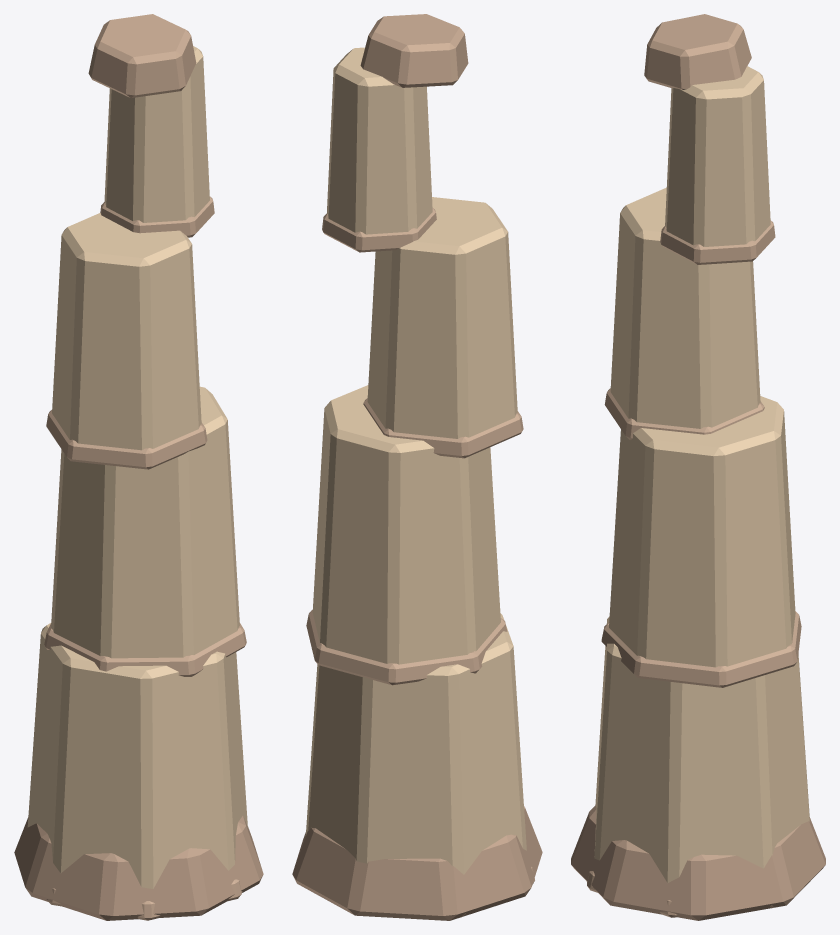
The model's file is mesa_spire_small.glb.
3 views of the same model, side by side, from view 1: azimuth 30°, elevation 25°; view 2: azimuth 150°, elevation 25°; view 3: azimuth 270°, elevation 25° (orthographic).
Parts seen in each view (by area): view 1: Drum1, Drum2, Drum3, Drum4, Talus, Cap, Strata3, Strata2, Strata4, Strata1; view 2: Drum2, Drum1, Drum3, Drum4, Talus, Cap, Strata2, Strata3, Strata4; view 3: Drum2, Drum1, Drum3, Drum4, Talus, Cap, Strata2, Strata4, Strata3.
Part boxes in pixels (<box>): Drum1: <box>27,623,247,888</box>; Drum2: <box>51,386,239,658</box>; Drum3: <box>52,213,201,450</box>; Drum4: <box>104,46,209,222</box>; Talus: <box>14,816,263,920</box>; Cap: <box>88,14,196,97</box>; Strata3: <box>46,410,207,469</box>; Strata2: <box>44,622,246,676</box>; Strata4: <box>100,196,214,237</box>; Strata1: <box>46,840,254,920</box>; Drum2: <box>312,385,500,664</box>; Drum1: <box>305,613,526,874</box>; Drum3: <box>367,197,517,438</box>; Drum4: <box>326,47,432,234</box>; Talus: <box>292,806,542,920</box>; Cap: <box>360,14,468,87</box>; Strata2: <box>306,610,507,685</box>; Strata3: <box>363,398,523,458</box>; Strata4: <box>322,208,436,252</box>; Drum2: <box>609,396,795,667</box>; Drum1: <box>594,616,809,882</box>; Drum3: <box>610,187,760,428</box>; Drum4: <box>665,66,770,246</box>; Talus: <box>571,805,825,920</box>; Cap: <box>644,14,751,89</box>; Strata2: <box>601,611,801,687</box>; Strata4: <box>660,220,775,264</box>; Strata3: <box>604,388,764,439</box>.
Size of the model in its own units: 0.9631 by 3.51 by 0.9631.
